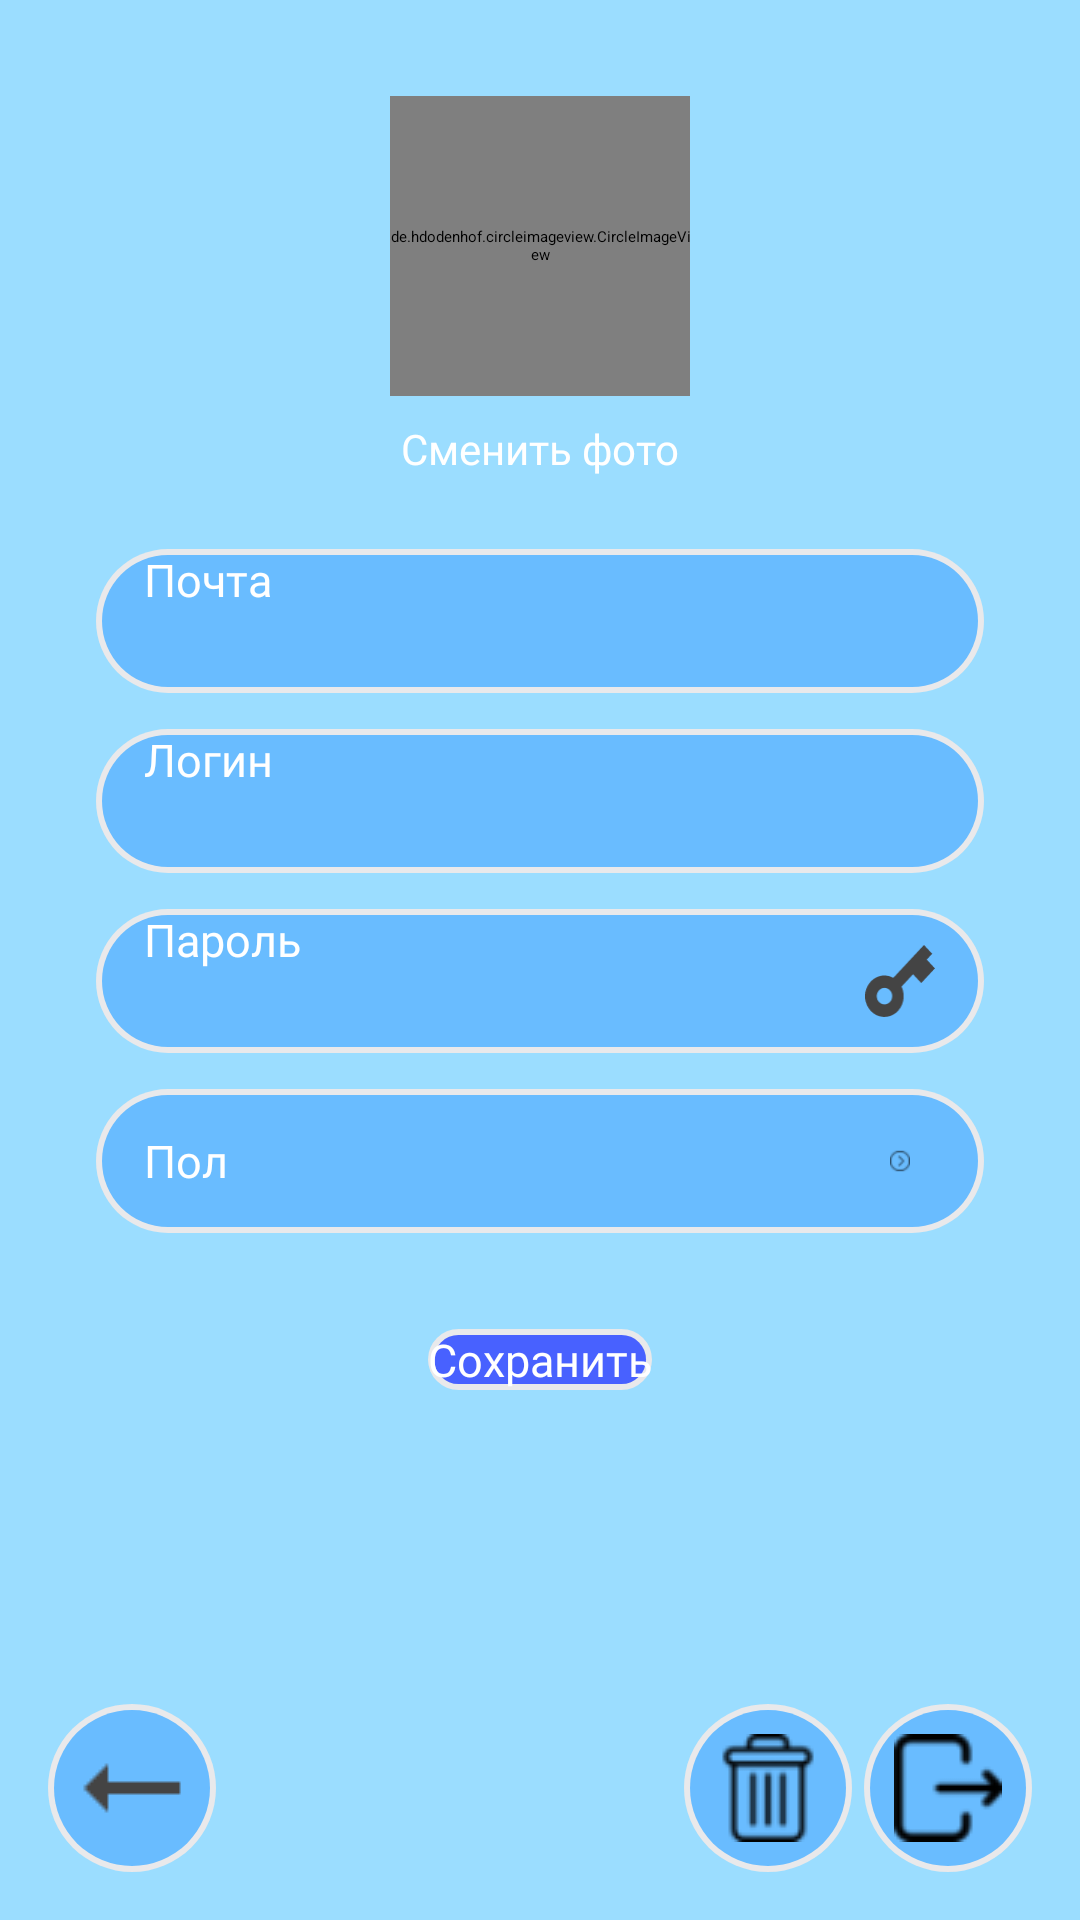

Named icons in this screenshot (1080px x 1920px) and their centers, (x,y):
back: (132,1788)
delete: (768,1788)
